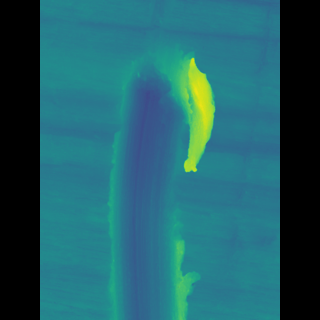Loch: (118, 42, 203, 320)
